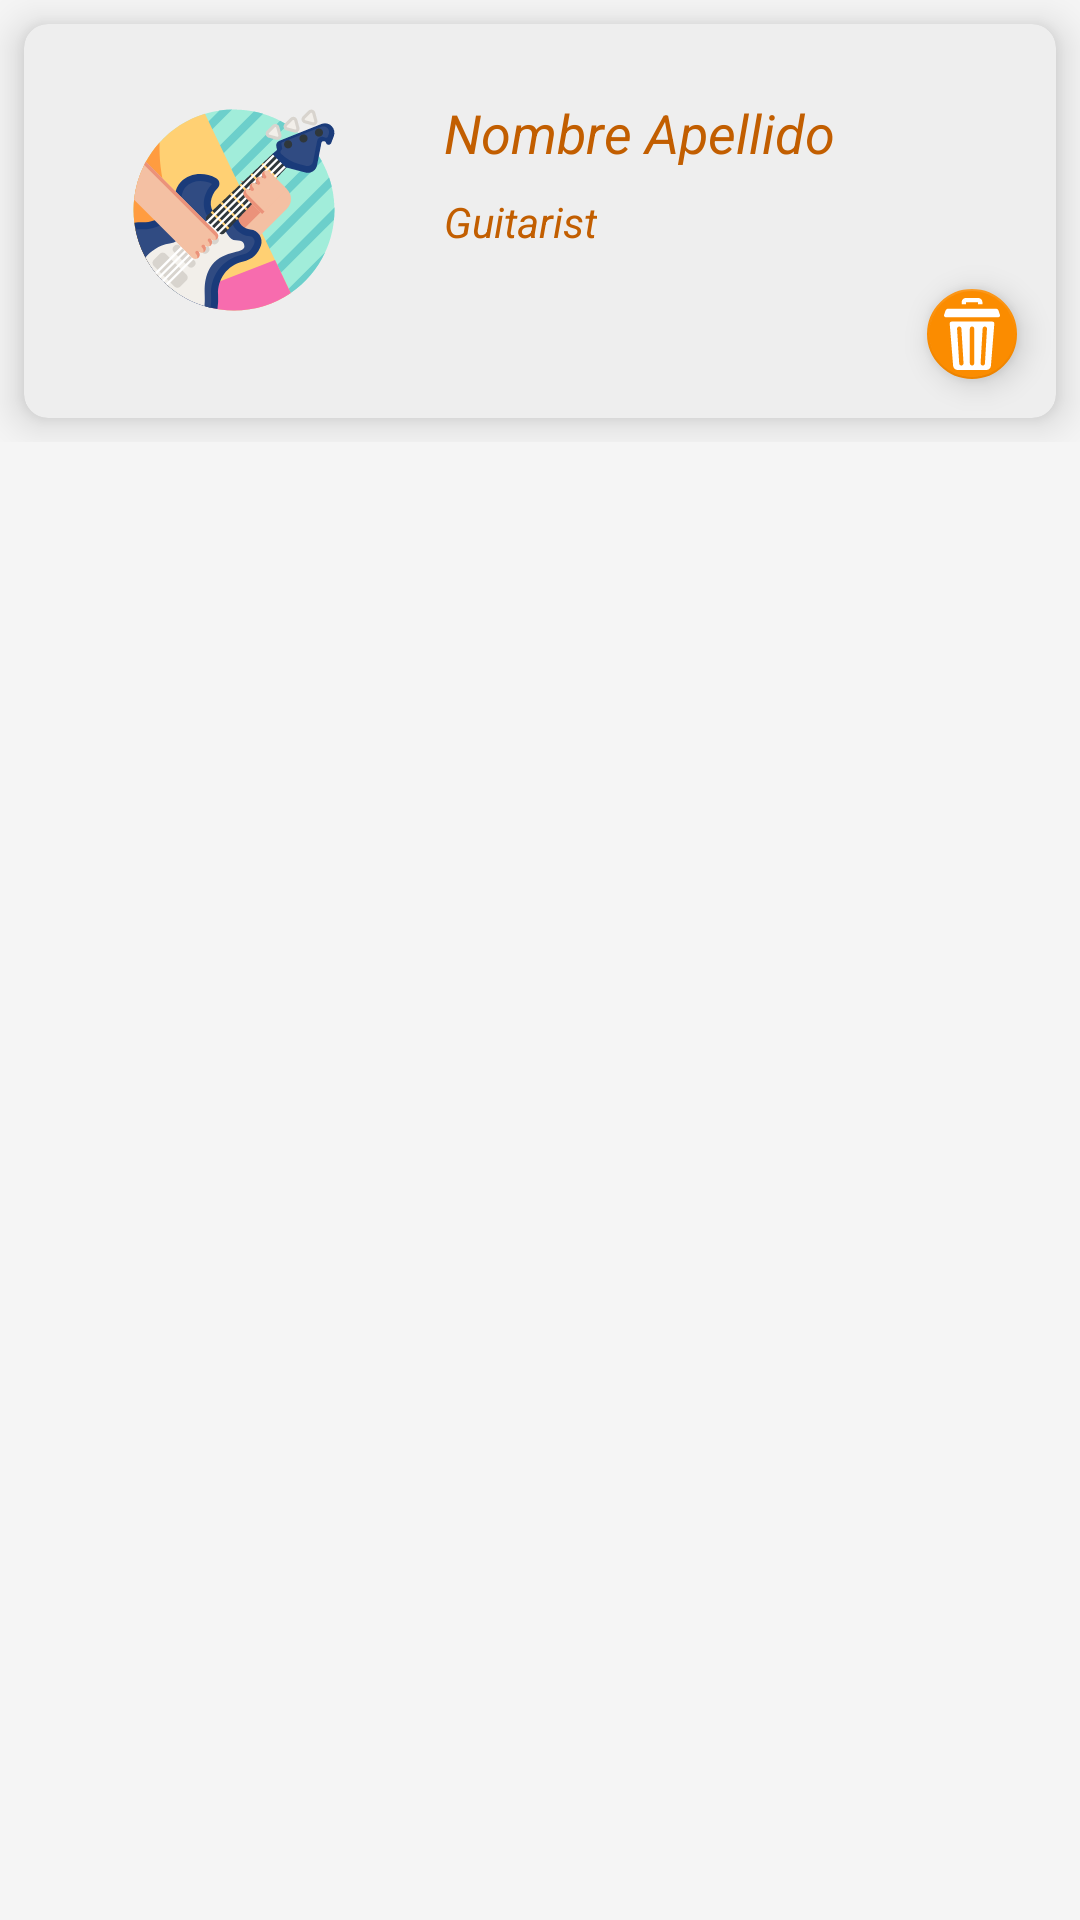

Where icons sit on this 1080×1920 app screen, as region(x1, y1, x2, y2):
delete: region(927, 289, 1019, 381)
profile: region(133, 109, 335, 311)
